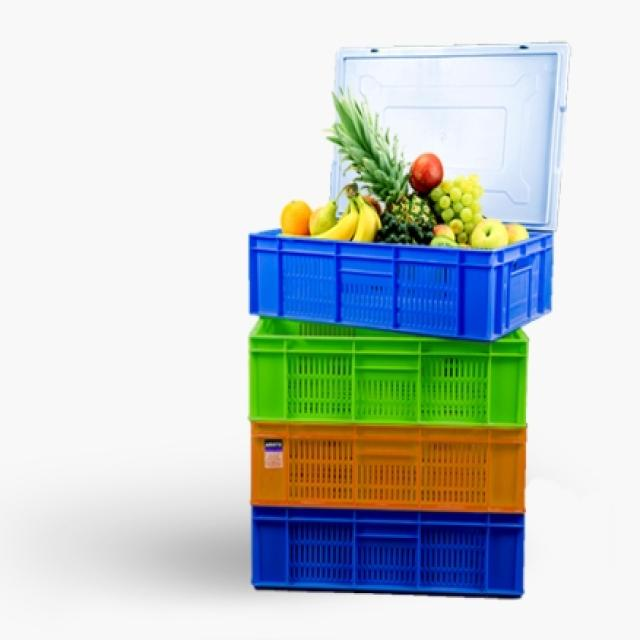basket: (249, 230, 553, 341), (248, 317, 531, 428), (251, 510, 526, 599), (251, 425, 527, 513)
